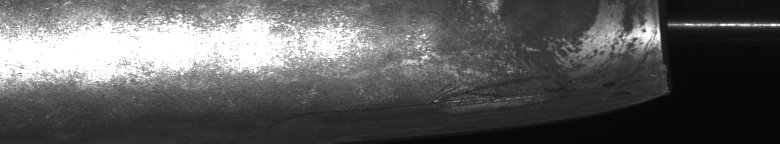kb: (29, 0, 670, 144)
